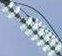gap: (7, 6, 33, 30)
